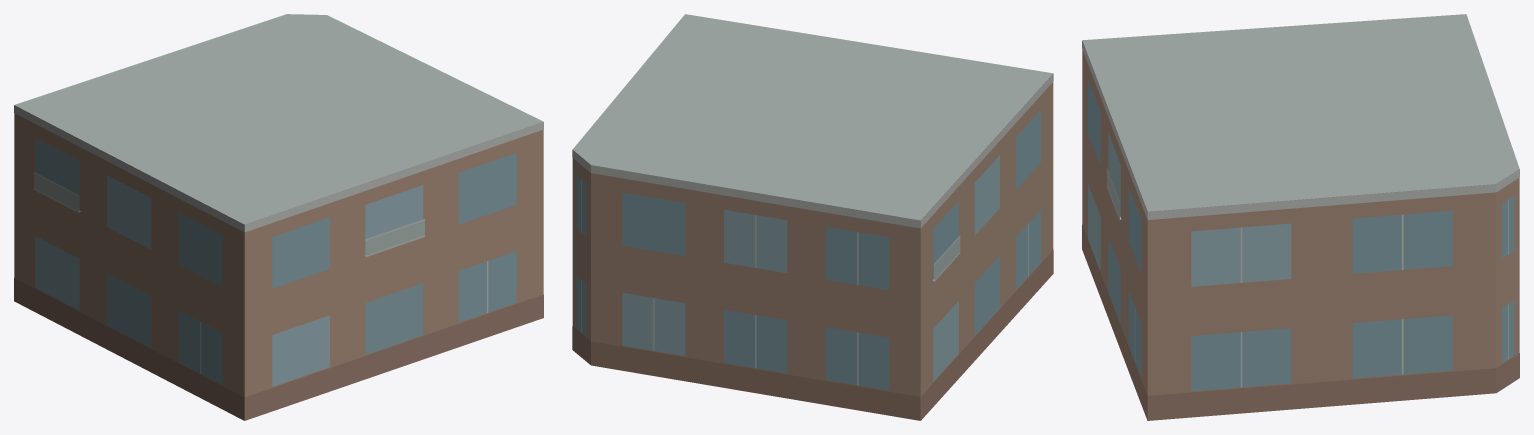
Rendered from survey-upis-32740418.glb.
The picture shows the model from 3 angles, left to right: view 1: azimuth 30°, elevation 25°; view 2: azimuth 150°, elevation 25°; view 3: azimuth 270°, elevation 25°; orthographic projection. The views are drawn at different scales.
Parts seen in each view (by area): view 1: survey-upis-32740418.tmp; view 2: survey-upis-32740418.tmp; view 3: survey-upis-32740418.tmp.
Boxes of the visible parts, x1,y1,x2,y2 form: survey-upis-32740418.tmp: (14,14,543,420); survey-upis-32740418.tmp: (572,14,1053,420); survey-upis-32740418.tmp: (1082,14,1519,420).
Size of the model in its own units: 12.38 by 6.1 by 11.58.
